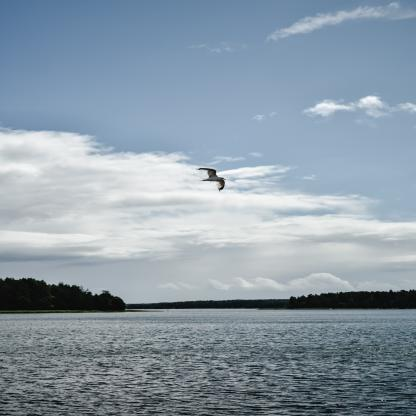bird: (194, 167, 228, 192)
